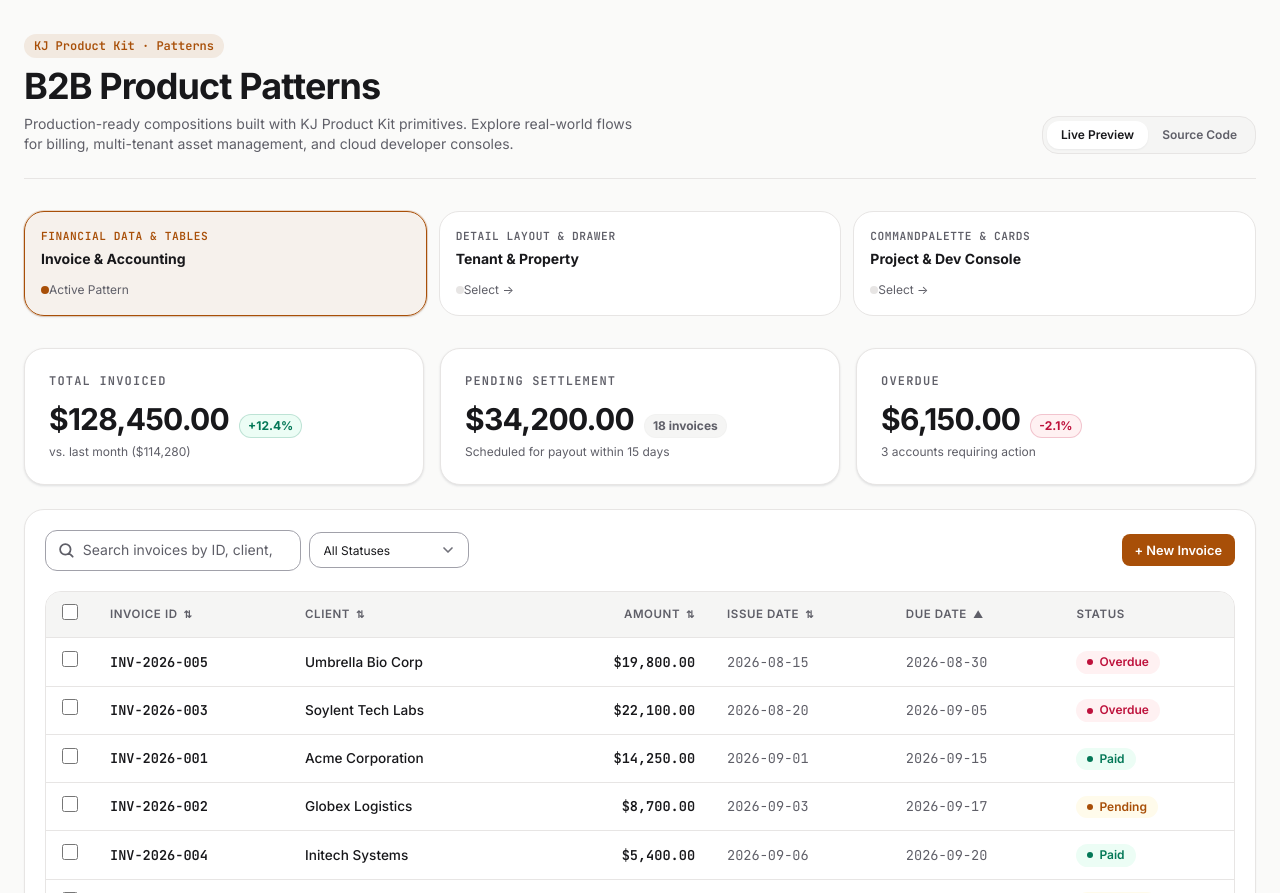
it: PatternsView › toggles between Live Preview and Source Code views
Expected: the search field with placeholder "Search invoices by ID, client, or amount..." is shown, [45,530,301,571]
Toggle to Source Code
Click the tab "Source Code".
click(1200, 135)  # box [1148,121,1251,149]
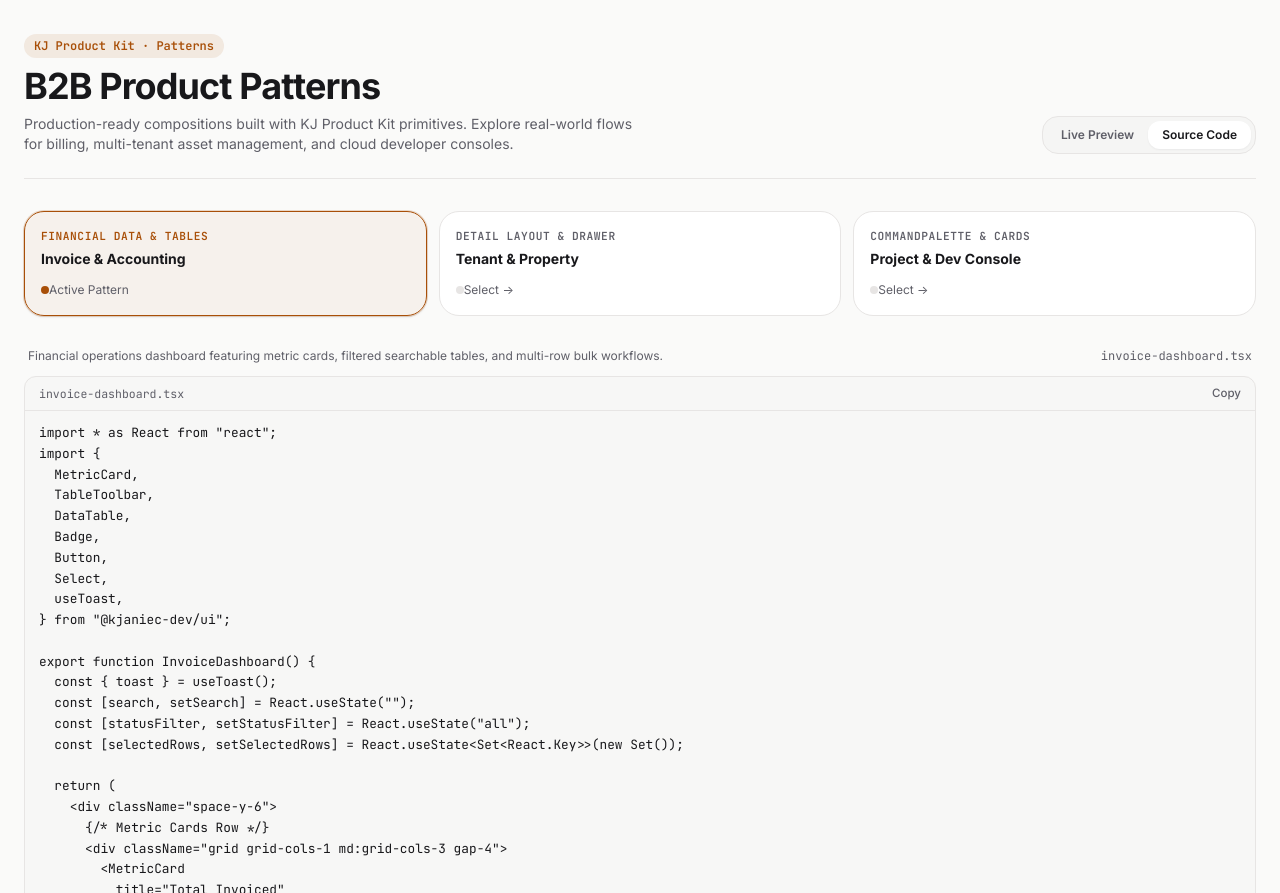
Expected: the field with placeholder "Search invoices" is not shown
Result: the 1st text "invoice-dashboard.tsx" is shown at [1101,348,1252,364]
Toggle back to Live Preview
Click the tab "Live Preview".
click(1098, 135)  # box [1047,121,1148,149]
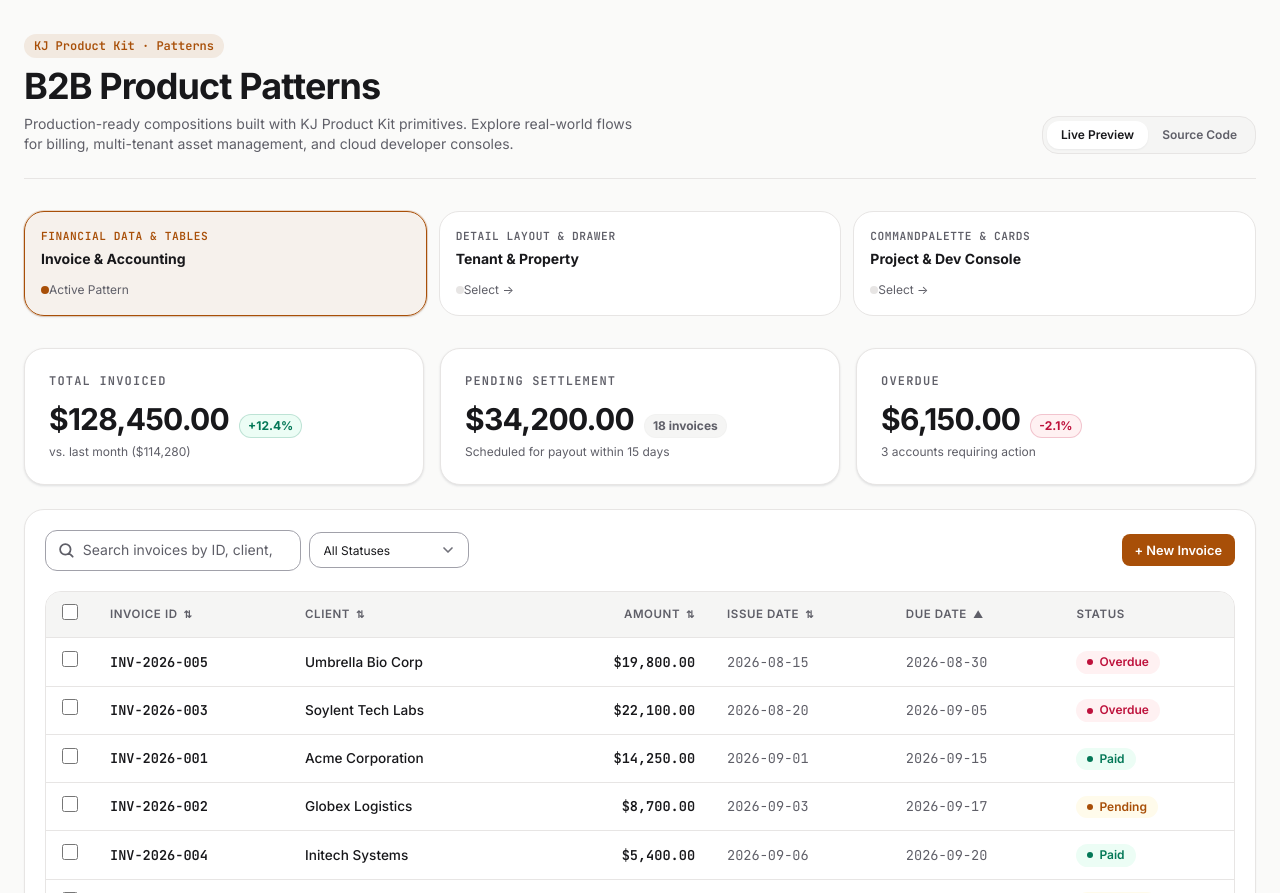
Result: the search field with placeholder "Search invoices by ID, client, or amount..." is shown at [45,530,301,571]
